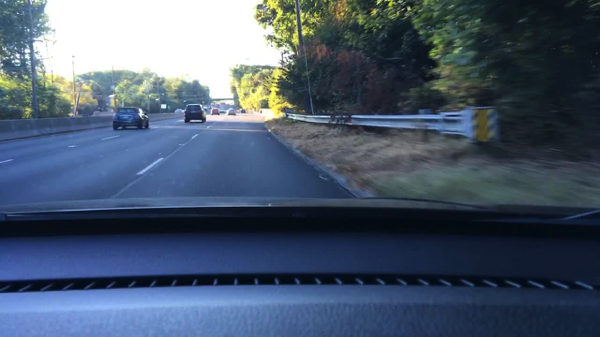car: (112, 107, 149, 132), (183, 104, 207, 124), (210, 108, 220, 117), (227, 109, 236, 115), (218, 108, 225, 114), (174, 109, 182, 114), (239, 109, 245, 113), (210, 102, 215, 106), (203, 106, 207, 111), (181, 108, 184, 112)
traffic sign: (161, 104, 167, 110)
